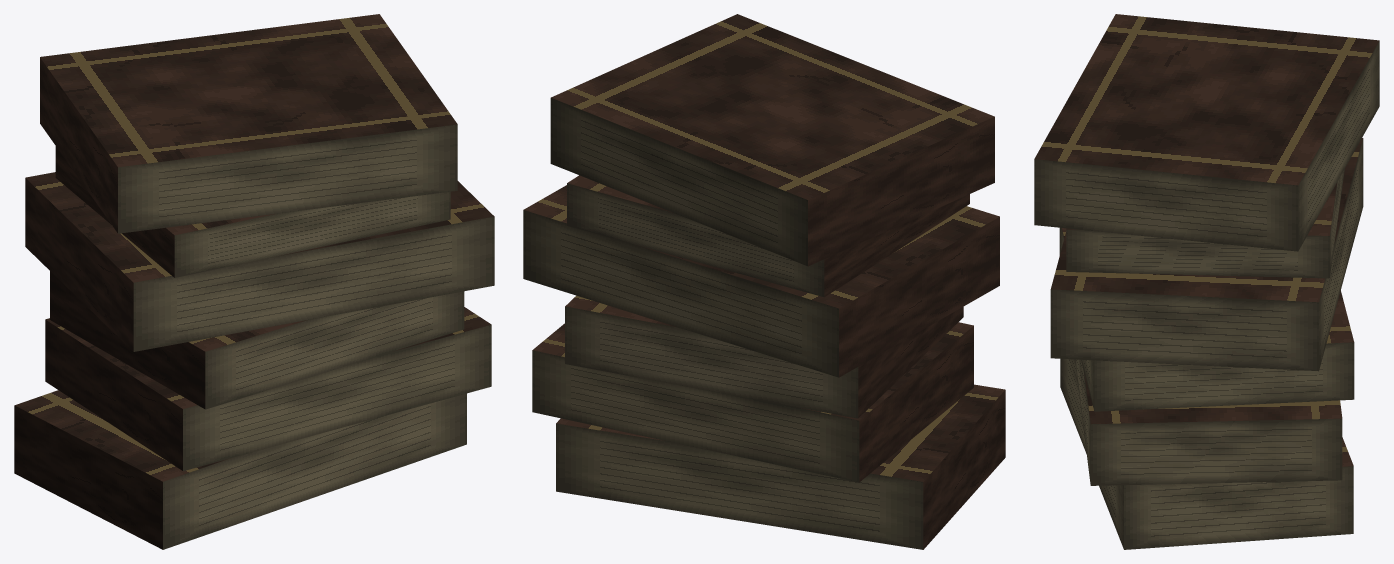
File: PSXH_Books_Stack.glb
The picture shows the model from 3 angles, left to right: view 1: azimuth 30°, elevation 25°; view 2: azimuth 150°, elevation 25°; view 3: azimuth 270°, elevation 25°; orthographic projection.
Visible parts, largest first — view 1: PSXH_Books_Stack; view 2: PSXH_Books_Stack; view 3: PSXH_Books_Stack.
Part boxes in pixels (box(x1,y1,x2,y2)): PSXH_Books_Stack: box(14, 14, 494, 549); PSXH_Books_Stack: box(523, 14, 1005, 549); PSXH_Books_Stack: box(1034, 14, 1379, 549).
Bounding box in the file's own units: 0.2913 × 0.2639 × 0.2266.
Materials: 1 (1 with a texture image).
